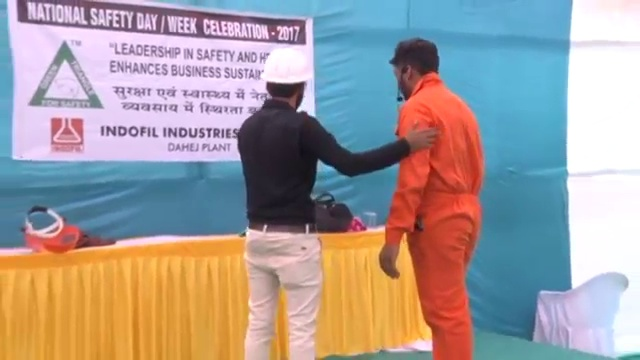helmet: (259, 46, 313, 86)
helmet_off: (390, 39, 441, 103)
helmet_on: (259, 42, 314, 111)
person: (239, 42, 434, 360), (379, 38, 495, 360)
